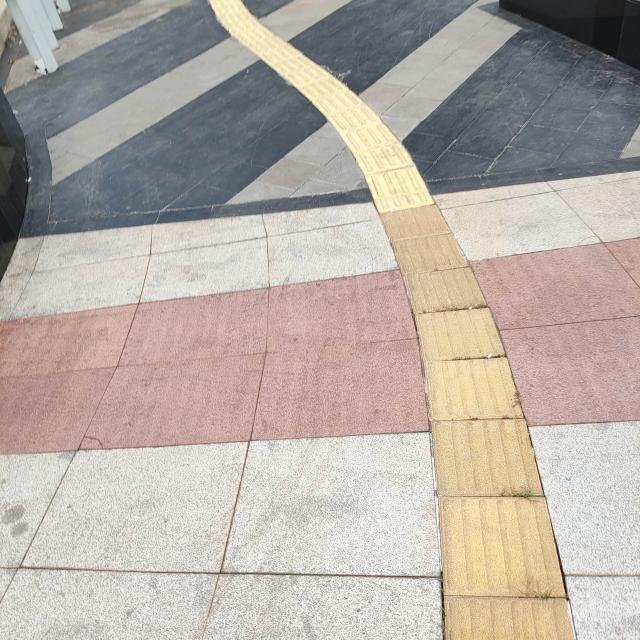lurus: (354, 164, 575, 640)
